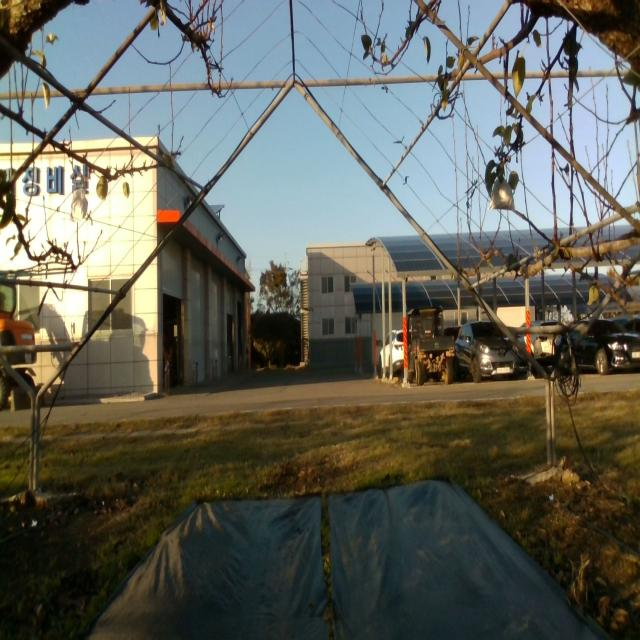pearbags: (487, 173, 517, 215), (70, 187, 89, 224)
